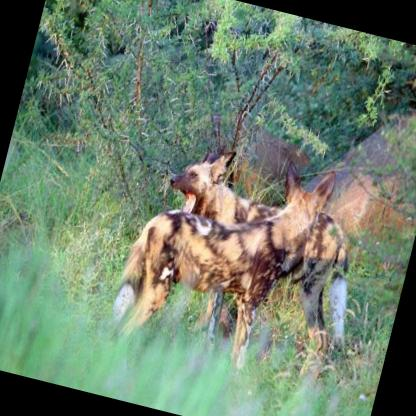African_hunting_dog: (129, 136, 384, 382), (103, 125, 340, 385)
